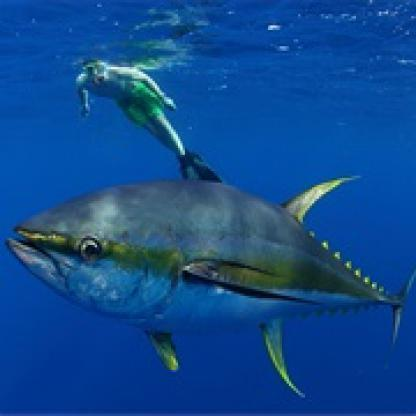Bio: (0, 164, 412, 400)
